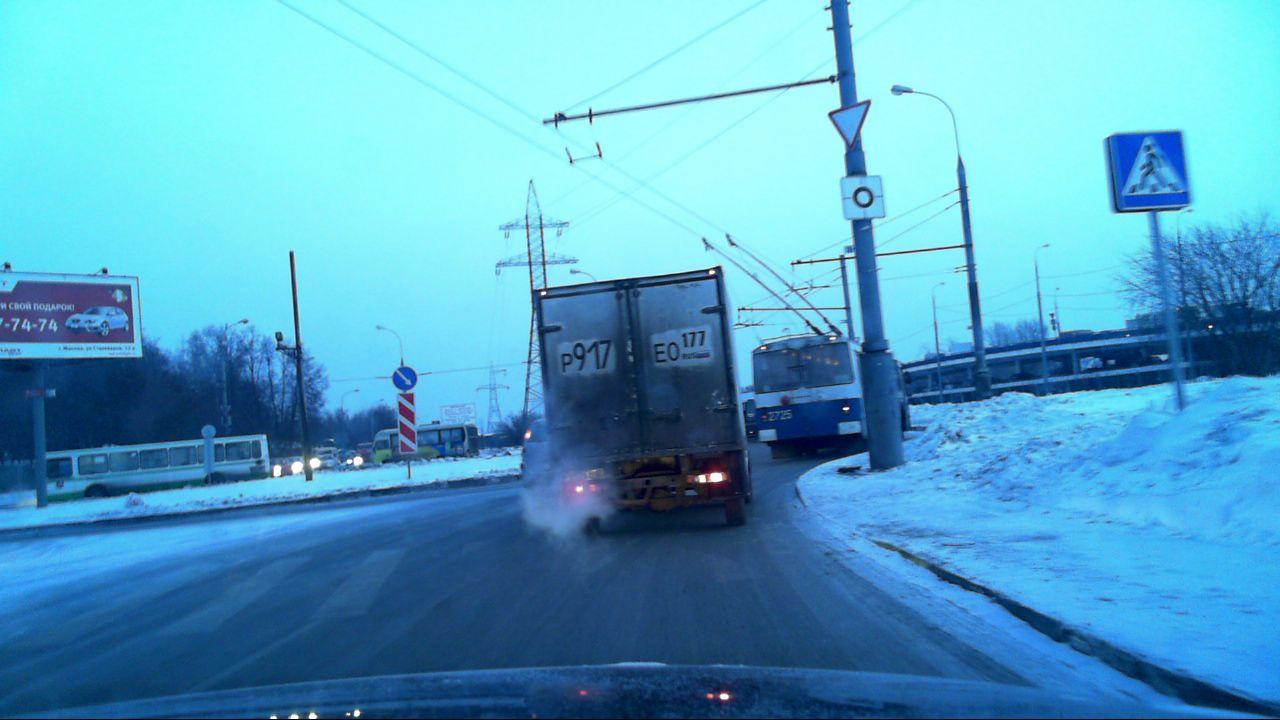2_4: (824, 99, 875, 149)
4_2_1: (392, 366, 417, 391)
5_19_1: (1101, 126, 1196, 217)
8_13: (840, 175, 885, 222)
8_22_1: (396, 392, 419, 455)
